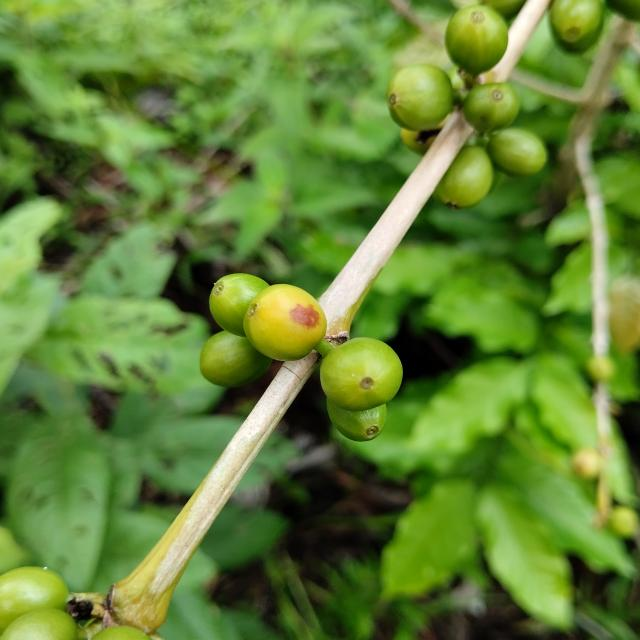green: (243, 284, 327, 361), (320, 338, 403, 412), (387, 63, 454, 130), (0, 568, 68, 634), (446, 4, 509, 75), (199, 331, 272, 388), (434, 145, 494, 209), (209, 274, 269, 337), (488, 128, 548, 176), (464, 82, 520, 132), (327, 399, 387, 442), (0, 610, 76, 640)
